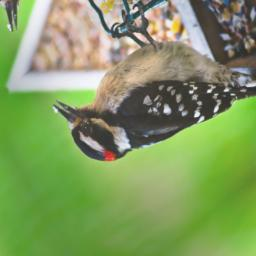Woodpecker: (38, 0, 256, 219)
